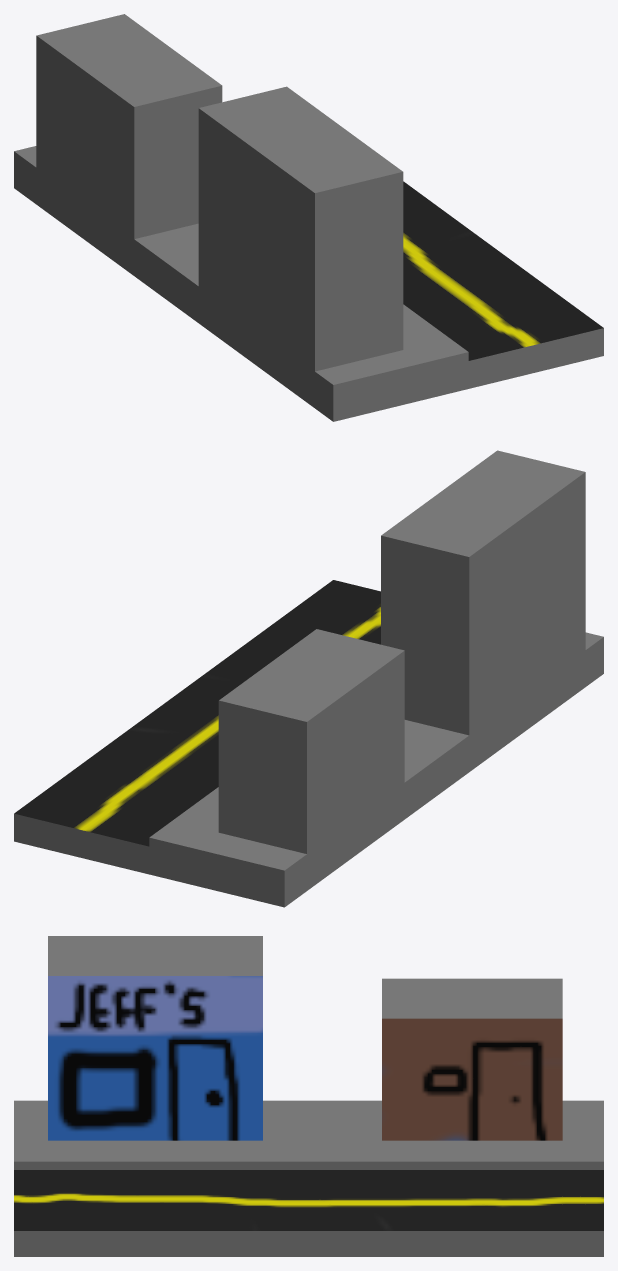
File: sidewalk0.glb
3 views of the same model, one above another, from view 1: azimuth 30°, elevation 25°; view 2: azimuth 150°, elevation 25°; view 3: azimuth 270°, elevation 25° (orthographic). The views are drawn at different scales.
Parts seen in each view (by area): view 1: Cube; view 2: Cube; view 3: Cube.
Part boxes in pixels (<box>): Cube: <box>14,14,603,421</box>; Cube: <box>14,450,603,907</box>; Cube: <box>14,936,603,1256</box>.
Bounding box in the file's own units: 9.78 × 7.44 × 20.
1 material, 1 textured.
